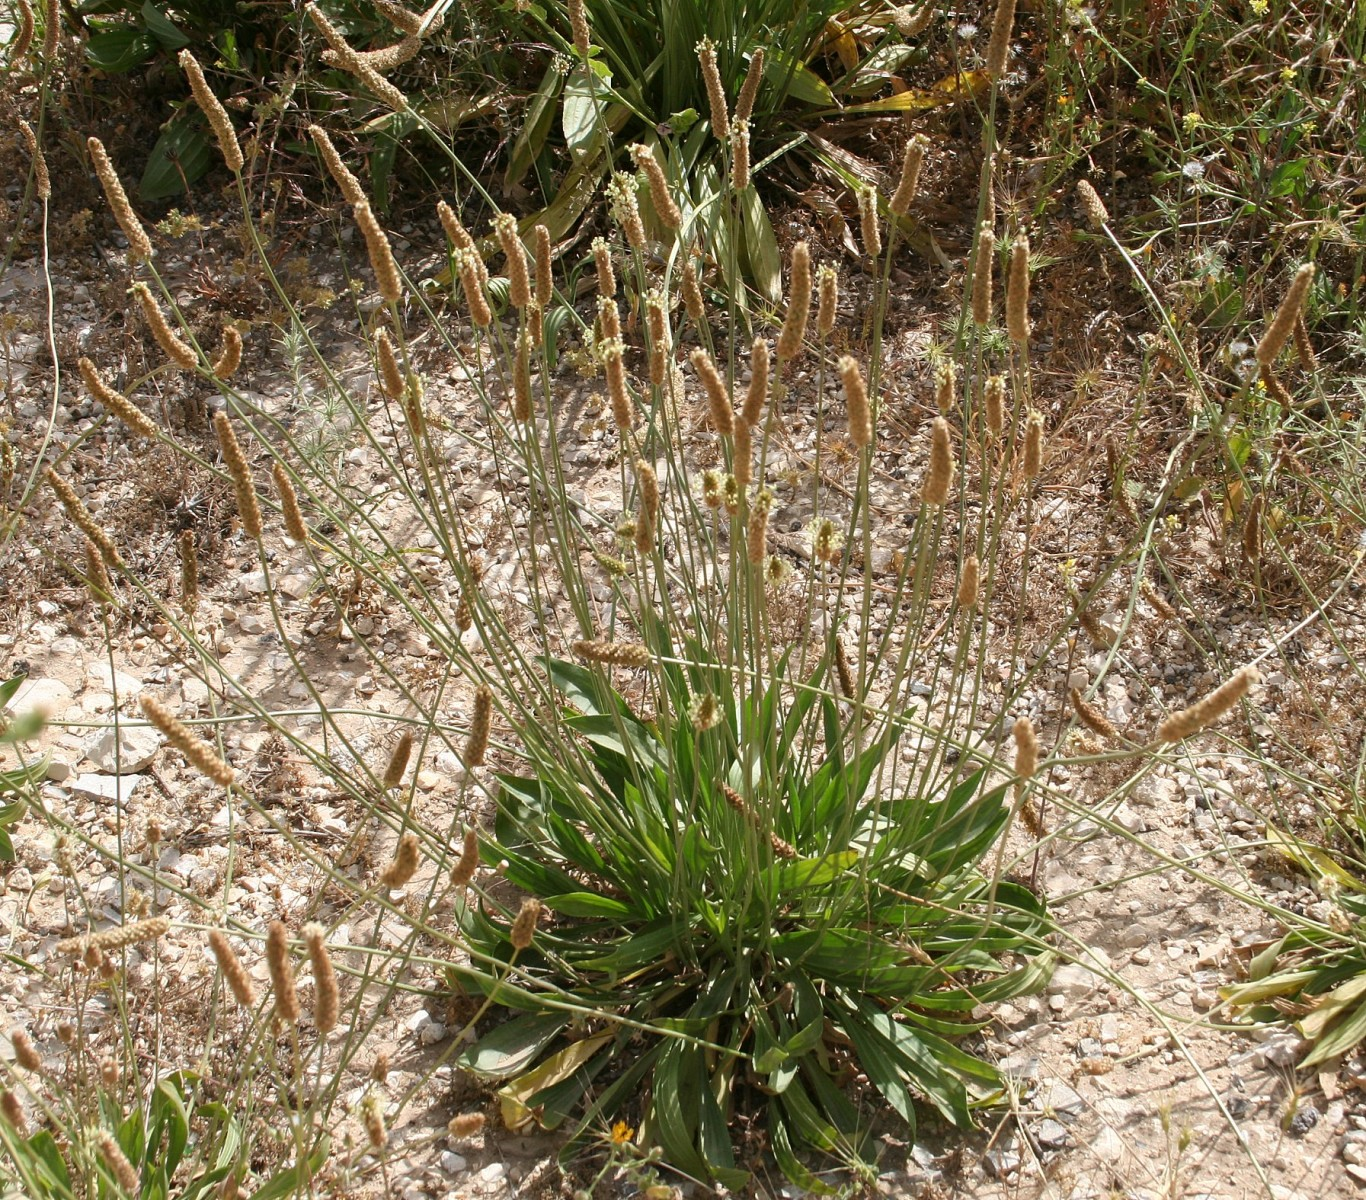buckhorn plantain: (50, 8, 1296, 1095)
